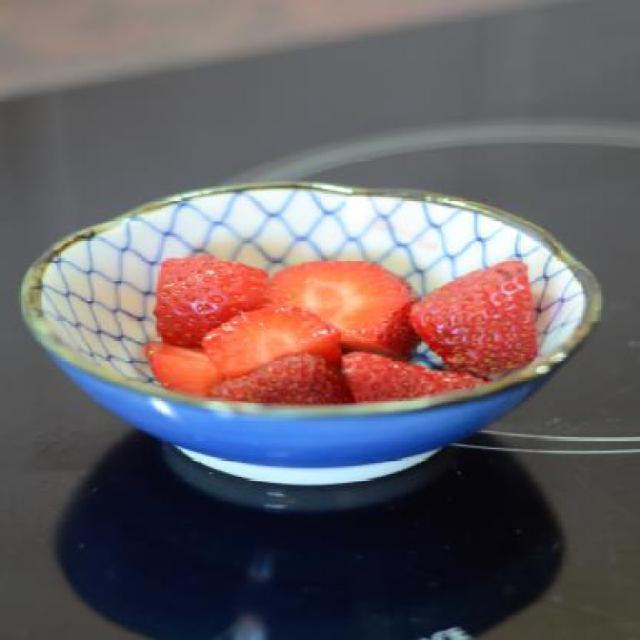Strawberry: (412, 266, 560, 382), (272, 254, 430, 348), (150, 253, 279, 339), (200, 354, 368, 416), (343, 350, 488, 410), (133, 358, 264, 424), (216, 299, 330, 367)
